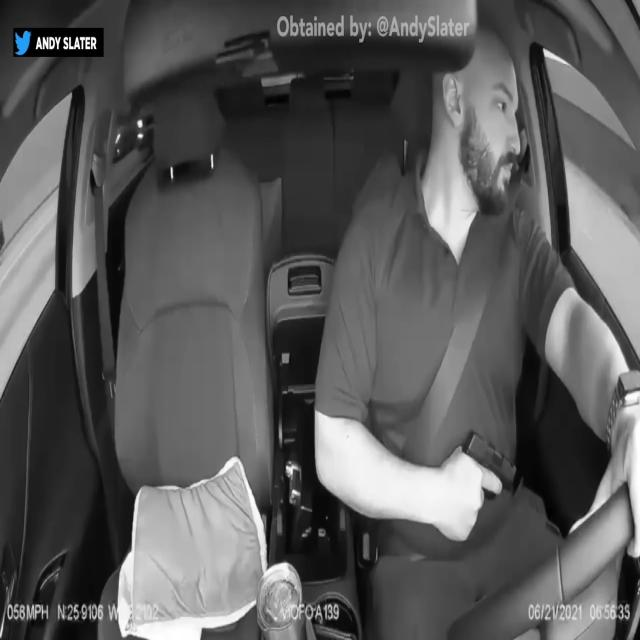senjata_api: (463, 430, 518, 499)
